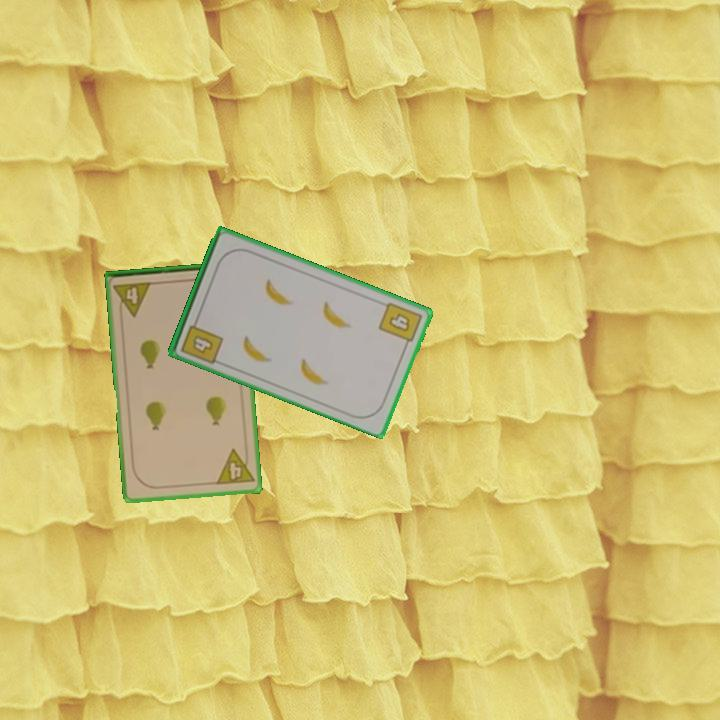4b: (375, 298, 425, 351), (177, 314, 226, 367)
4p: (212, 445, 257, 488), (110, 278, 155, 320)
